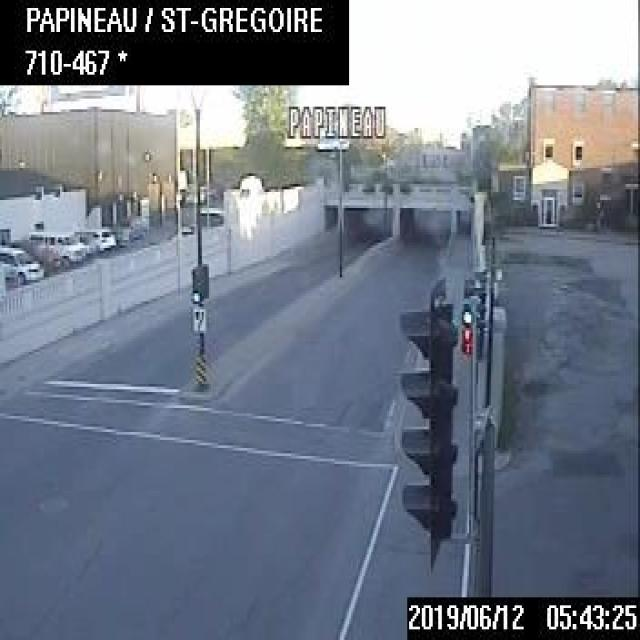vehicle: (26, 228, 86, 264), (0, 242, 44, 282), (77, 223, 117, 255)
